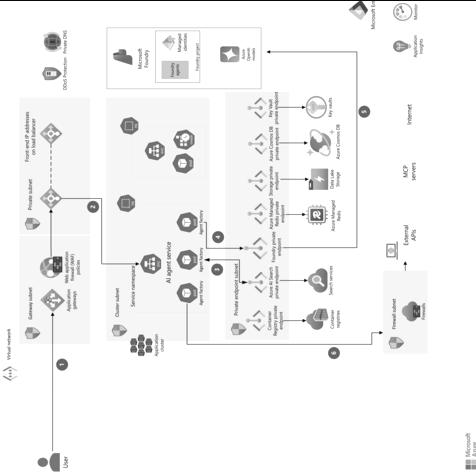actor: (38, 452, 66, 470)
api_gateway: (39, 287, 70, 313)
compute: (138, 205, 200, 318), (158, 58, 190, 84)
data_flow: (355, 52, 358, 246), (192, 342, 371, 345), (266, 50, 358, 54), (248, 246, 356, 249), (51, 355, 54, 437), (99, 198, 102, 266), (51, 145, 54, 186), (64, 197, 100, 200), (406, 273, 410, 299), (102, 262, 133, 265), (51, 222, 54, 252), (205, 271, 225, 274), (205, 246, 225, 249), (284, 316, 299, 320), (238, 278, 253, 281), (238, 245, 253, 248), (284, 278, 299, 281), (284, 212, 299, 215), (370, 334, 374, 344), (284, 178, 299, 180), (284, 140, 299, 142), (284, 106, 299, 108), (224, 273, 226, 286), (224, 245, 226, 247)
database_storage: (307, 126, 338, 156), (307, 200, 338, 227), (307, 305, 338, 331), (307, 266, 338, 292), (307, 166, 338, 192)
network_security: (248, 200, 279, 227), (39, 252, 70, 278), (248, 305, 279, 331), (248, 266, 279, 292), (248, 233, 279, 259), (248, 166, 279, 192), (248, 128, 279, 154), (248, 94, 279, 120), (307, 94, 338, 120), (399, 298, 430, 324), (42, 124, 68, 144), (42, 62, 68, 82), (42, 30, 68, 50), (42, 189, 68, 208), (350, 0, 376, 18)
trust_boundary: (0, 0, 437, 388), (107, 96, 210, 345), (226, 90, 290, 342), (20, 97, 89, 234), (20, 235, 89, 344), (105, 28, 202, 88), (381, 270, 428, 354)
